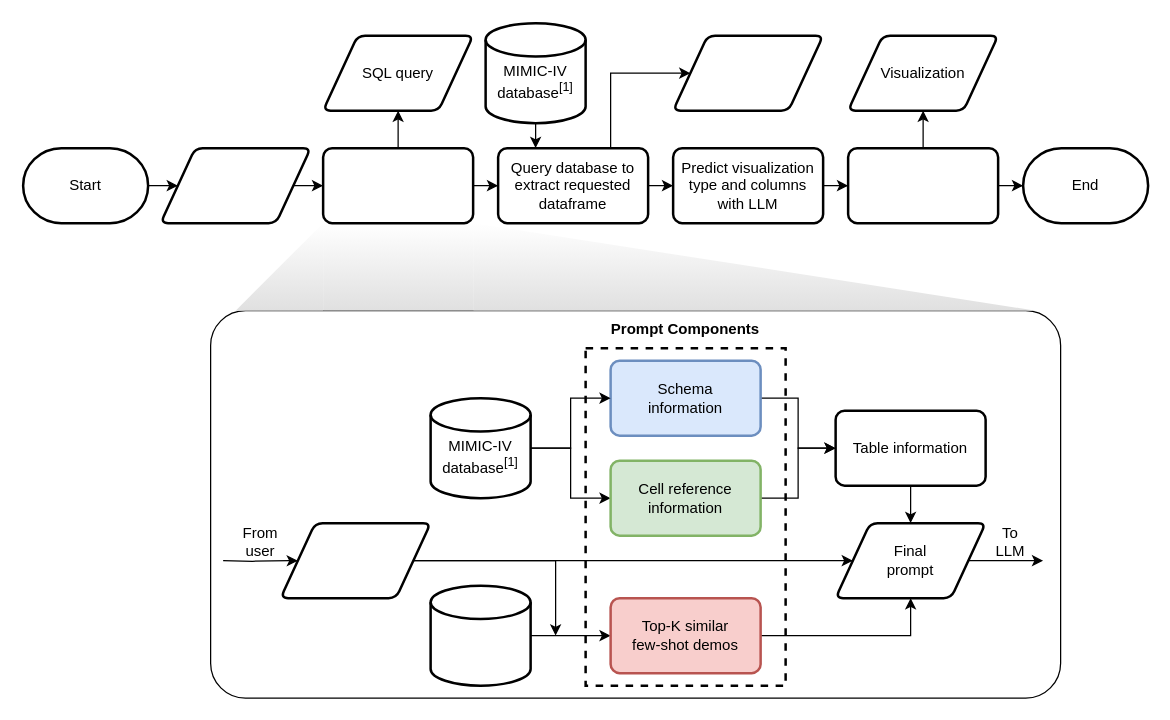
Some shapes in this 1170 by 720 pixel diagram are drawn without their labels. Here are the shapes that lost their labels. From the top down, the centre of each, then its label:
the point at 747,72: Dataframe
the point at 235,185: User prompt
the point at 397,185: Predict SQL query with LLM
the point at 922,185: Generate visualization with specified type and columns
the point at 355,560: Natural Language Prompt
the point at 480,635: Few-shot demo database
